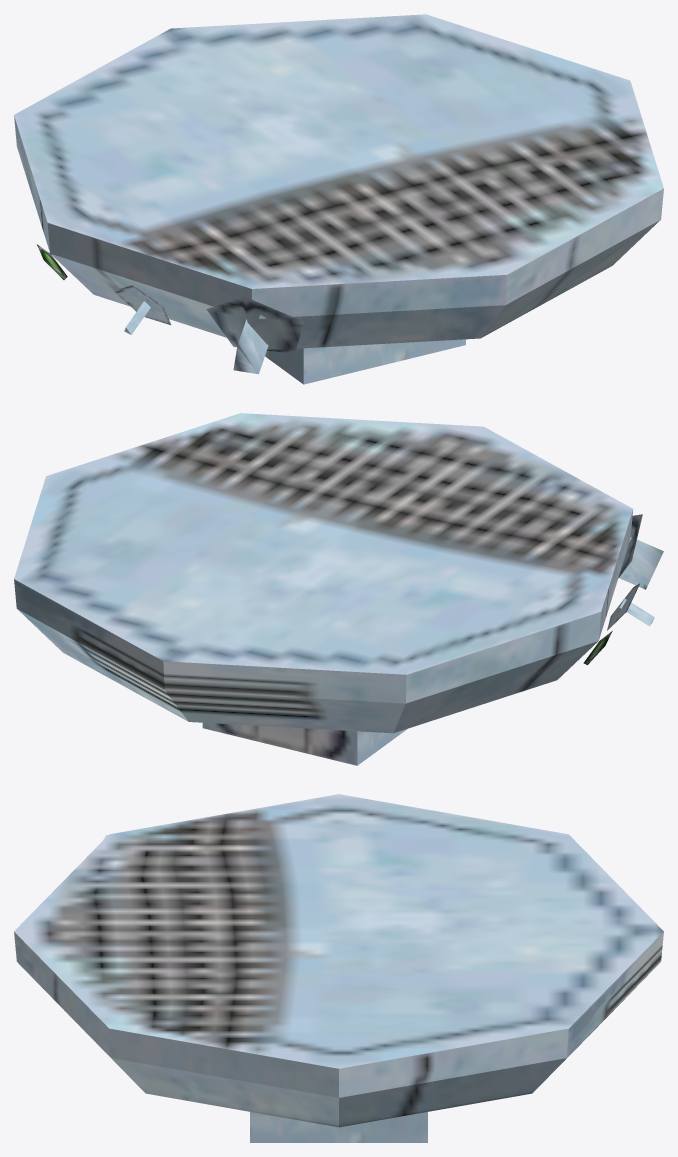
File: eqp_tool_hover_crate_transport_l2.fbx
3 renders of one model, top to bottom at view 1: azimuth 30°, elevation 25°; view 2: azimuth 150°, elevation 25°; view 3: azimuth 270°, elevation 25°, orthographic. The views are drawn at different scales.
Parts seen in each view (by area): view 1: mesh_node; view 2: mesh_node; view 3: mesh_node.
Part boxes in pixels (<box>): mesh_node: <box>14,14,663,384</box>; mesh_node: <box>14,413,663,765</box>; mesh_node: <box>14,794,663,1142</box>.
Size of the model in its own units: 1.21 by 0.3538 by 1.2.
